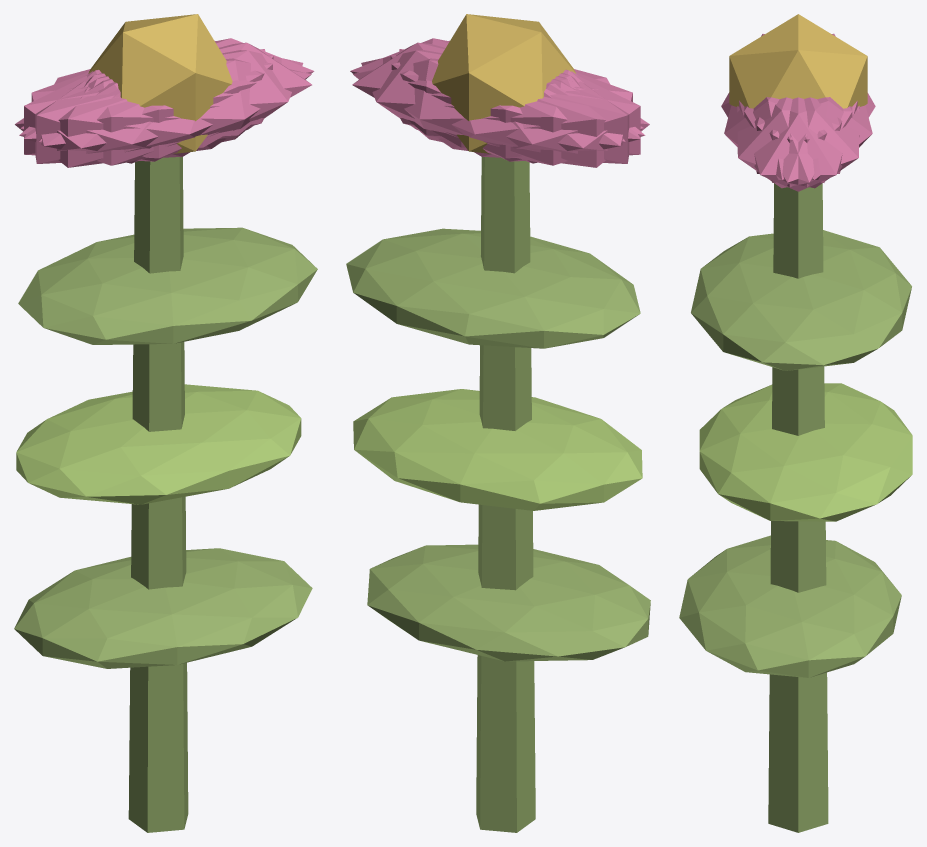
File: ruellia-tuberosa.glb
The picture shows the model from 3 angles, left to right: view 1: azimuth 30°, elevation 25°; view 2: azimuth 150°, elevation 25°; view 3: azimuth 270°, elevation 25°; orthographic projection.
Parts seen in each view (by area): view 1: leaf0, stem, leaf2, leaf1, center, petal1, petal6, petal2, petal5, petal7, petal0, petal4 (+2 smaller); view 2: leaf1, leaf2, stem, leaf0, center, petal8, petal3, petal7, petal4, petal2, petal0, petal5 (+2 smaller); view 3: leaf2, leaf1, leaf0, stem, center, petal0, petal5, petal4, petal1, petal8.
Boxes of the visible parts, x1,y1,x2,y2 form: leaf0: (14, 548, 312, 668); stem: (128, 156, 188, 832); leaf2: (18, 227, 317, 344); leaf1: (16, 384, 301, 504); center: (88, 14, 232, 153); petal1: (19, 58, 311, 165); petal6: (15, 71, 226, 167); petal2: (35, 49, 265, 163); petal5: (39, 50, 303, 158); petal7: (24, 55, 273, 161); petal0: (88, 42, 311, 147); petal4: (20, 38, 314, 139); leaf1: (353, 389, 642, 510); leaf2: (346, 228, 640, 348); stem: (476, 157, 535, 832); leaf0: (367, 544, 650, 661); center: (432, 14, 575, 153); petal8: (353, 58, 645, 165); petal3: (438, 71, 649, 167); petal7: (399, 49, 629, 163); petal4: (361, 50, 625, 158); petal2: (390, 55, 640, 161); petal0: (352, 42, 576, 147); petal5: (350, 38, 643, 139); leaf2: (691, 230, 911, 370); leaf1: (699, 383, 912, 521); leaf0: (679, 535, 901, 677); stem: (768, 183, 828, 832); center: (729, 14, 867, 108); petal0: (739, 97, 857, 191); petal5: (737, 97, 852, 188); petal4: (744, 97, 859, 188); petal1: (724, 97, 841, 179); petal8: (754, 97, 872, 179).
Bounding box in the file's own units: 0.1452 × 0.3846 × 0.1034.
